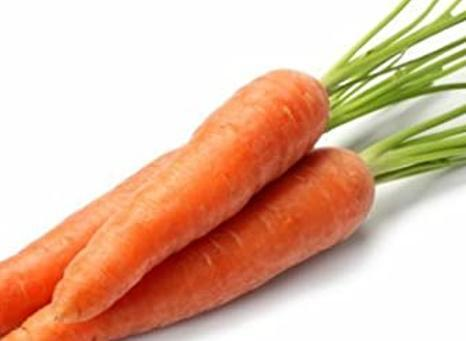carrot: (0, 68, 378, 341)
